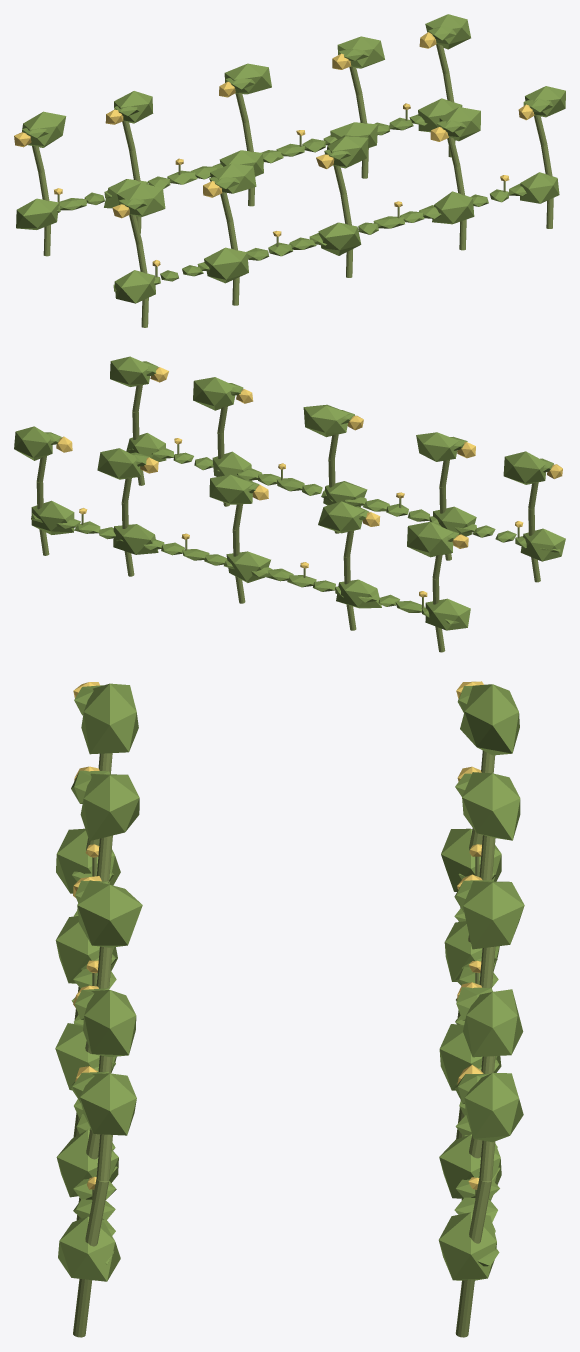
The model's file is Wooden_Bridge_Greenery.glb.
The picture shows the model from 3 angles, top to bottom: view 1: azimuth 30°, elevation 25°; view 2: azimuth 150°, elevation 25°; view 3: azimuth 270°, elevation 25°; orthographic projection. The views are drawn at different scales.
Visible parts, largest first — view 1: Growth; view 2: Growth; view 3: Growth.
Boxes of the visible parts, <box> form: Growth: <box>14,14,565,327</box>; Growth: <box>14,356,565,652</box>; Growth: <box>55,681,524,1337</box>.
Size of the model in its own units: 6.06 by 1.74 by 2.75.
